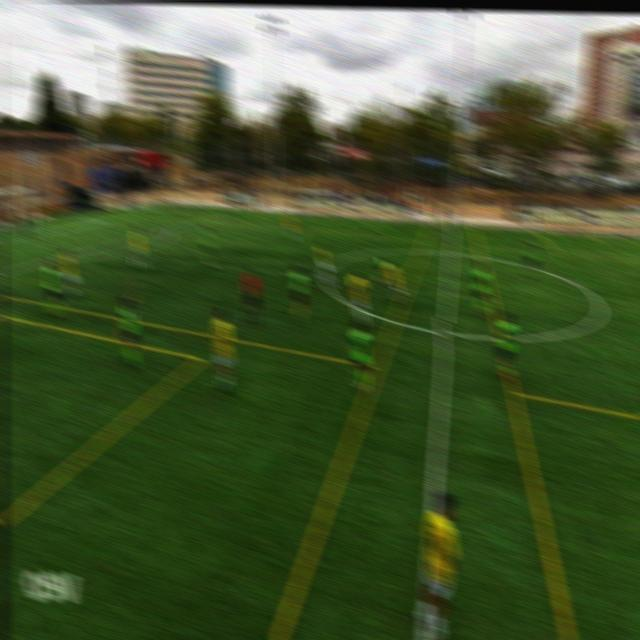bigarea_top_inner: (221, 210, 234, 222)
bigarea_top_outter: (132, 205, 142, 213)
bottom_arc_area_intersection: (42, 255, 52, 267)
corner: (159, 201, 169, 208)
halfcircle_bottom: (432, 319, 455, 348)
halfcircle_top: (443, 240, 456, 266)
midline_top_intersection: (446, 222, 458, 231)
smallarea_top_inner: (100, 217, 111, 227)
smallarea_top_outter: (66, 215, 79, 225)
top_arc_area_intersection: (162, 224, 174, 235)
